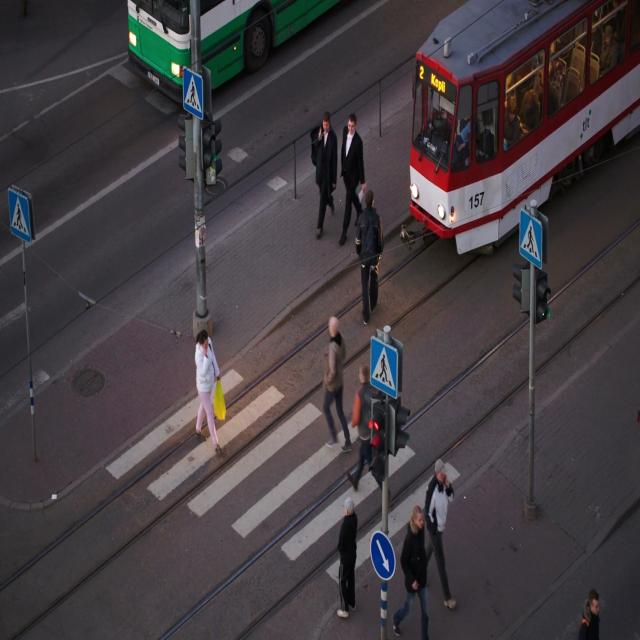pedestrian: (347, 364, 378, 491), (323, 317, 350, 451), (195, 329, 223, 451), (339, 114, 365, 245), (312, 113, 337, 238), (338, 497, 357, 616)
